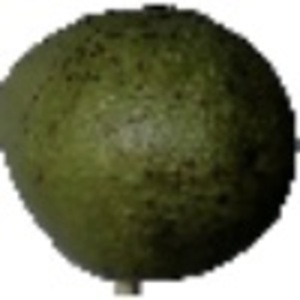abacate: (4, 4, 297, 283)
